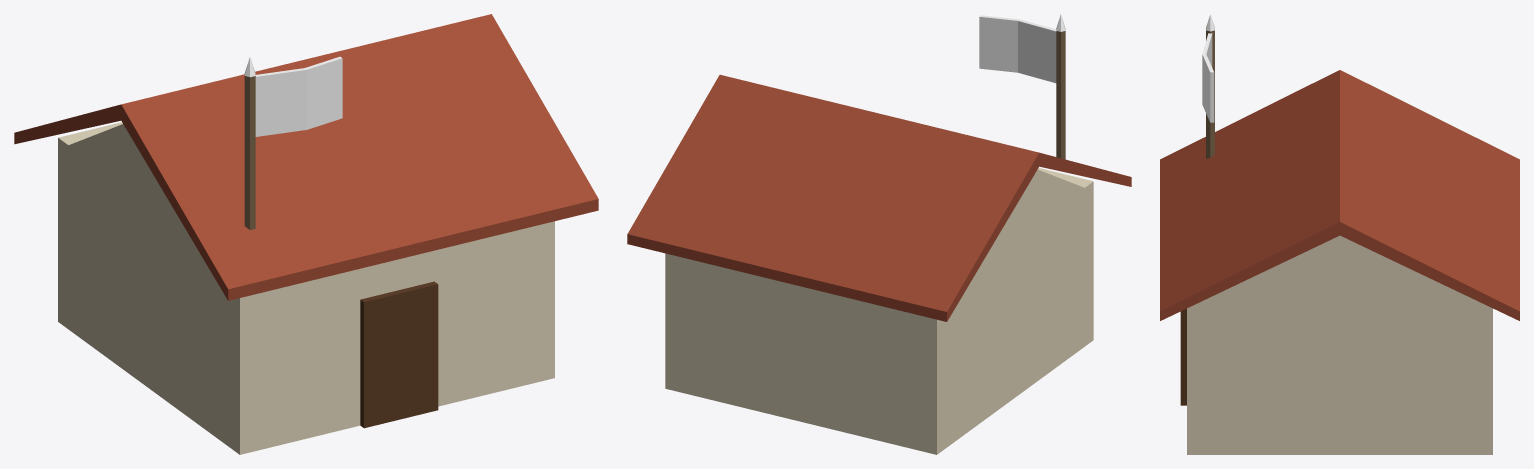
3 renders of one model, left to right at view 1: azimuth 30°, elevation 25°; view 2: azimuth 150°, elevation 25°; view 3: azimuth 270°, elevation 25°, orthographic. The views are drawn at different scales.
Parts seen in each view (by area): view 1: house, Team_banner; view 2: house, Team_banner; view 3: house, Team_banner.
Boxes of the visible parts, x1,y1,x2,y2 form: house: [14, 14, 598, 454]; Team_banner: [244, 56, 342, 229]; house: [627, 74, 1131, 454]; Team_banner: [979, 14, 1065, 159]; house: [1160, 70, 1519, 454]; Team_banner: [1202, 14, 1214, 158].
Size of the model in its own units: 4 by 3.95 by 4.
3 materials, 1 textured.
